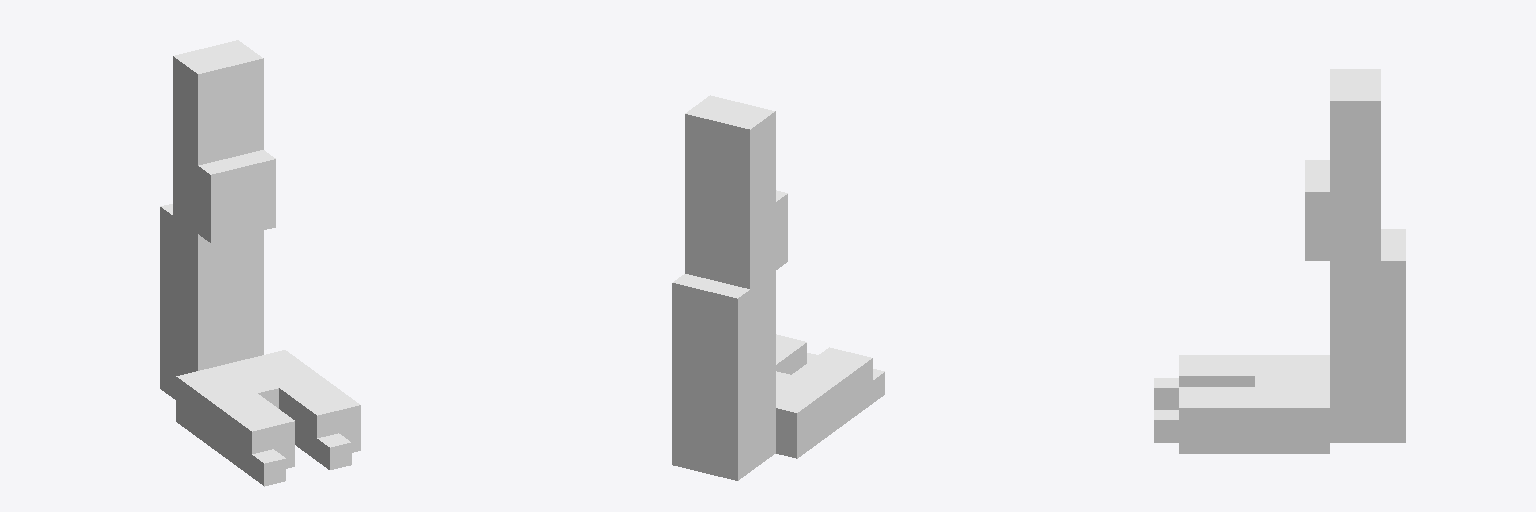
The model's file is Log_Тварь.obj.
The picture shows the model from 3 angles: view 1: azimuth 30°, elevation 25°; view 2: azimuth 150°, elevation 25°; view 3: azimuth 270°, elevation 25°; orthographic projection.
Visible parts, largest first — view 1: object 1; view 2: object 1; view 3: object 1.
Part boxes in pixels (bbox=[...]): object 1: bbox=[160, 40, 360, 486]; object 1: bbox=[672, 95, 884, 480]; object 1: bbox=[1154, 69, 1405, 453].
Size of the model in its own units: 0.5 by 1.5 by 1.